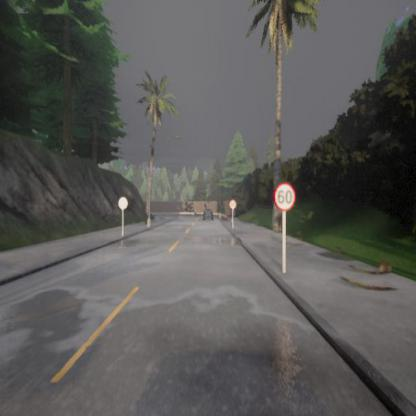traffic_sign_60: (274, 183, 295, 210)
